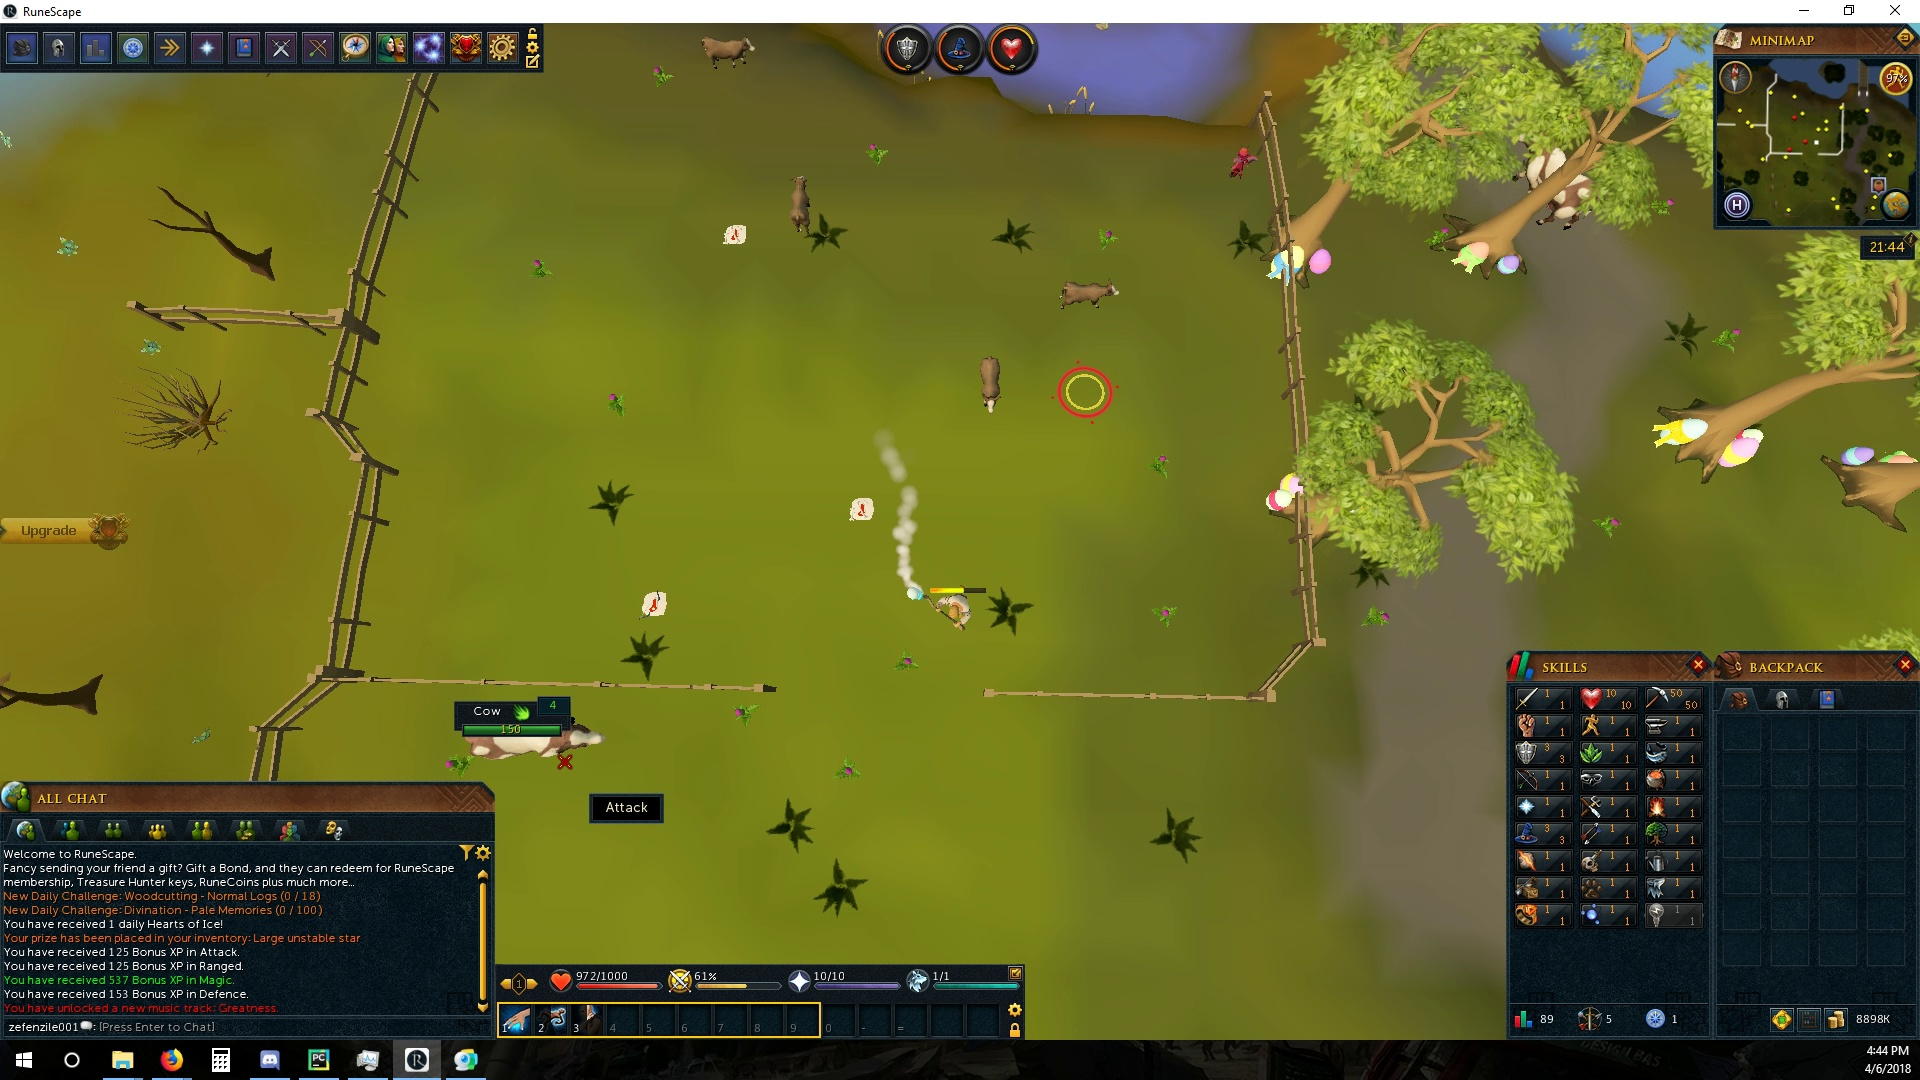calf: (698, 32, 760, 71), (1055, 280, 1122, 310), (787, 171, 818, 232), (975, 353, 1004, 415)
cow: (1502, 127, 1598, 233), (462, 721, 607, 766)
cow_drop: (640, 589, 671, 617), (844, 496, 877, 522), (721, 224, 749, 248)
